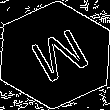M_SE: (19, 22, 91, 88)
